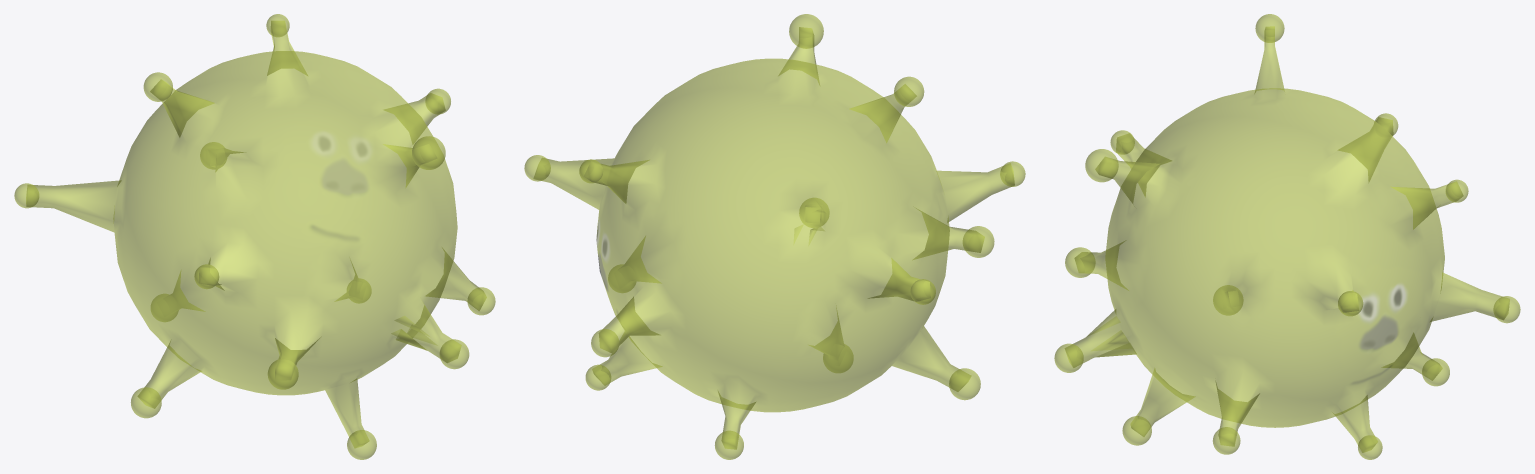
File: poison.fbx
3 views of the same model, side by side, from view 1: azimuth 30°, elevation 25°; view 2: azimuth 150°, elevation 25°; view 3: azimuth 270°, elevation 25° (orthographic). The views are drawn at different scales.
Parts seen in each view (by area): view 1: Сфера; view 2: Сфера; view 3: Сфера.
Boxes of the visible parts, x1,y1,x2,y2 form: Сфера: (14,14,495,459); Сфера: (524,14,1025,459); Сфера: (1054,14,1520,459).
Bounding box in the file's own units: 603 × 511 × 594.
Materials: 1 (1 with a texture image).
